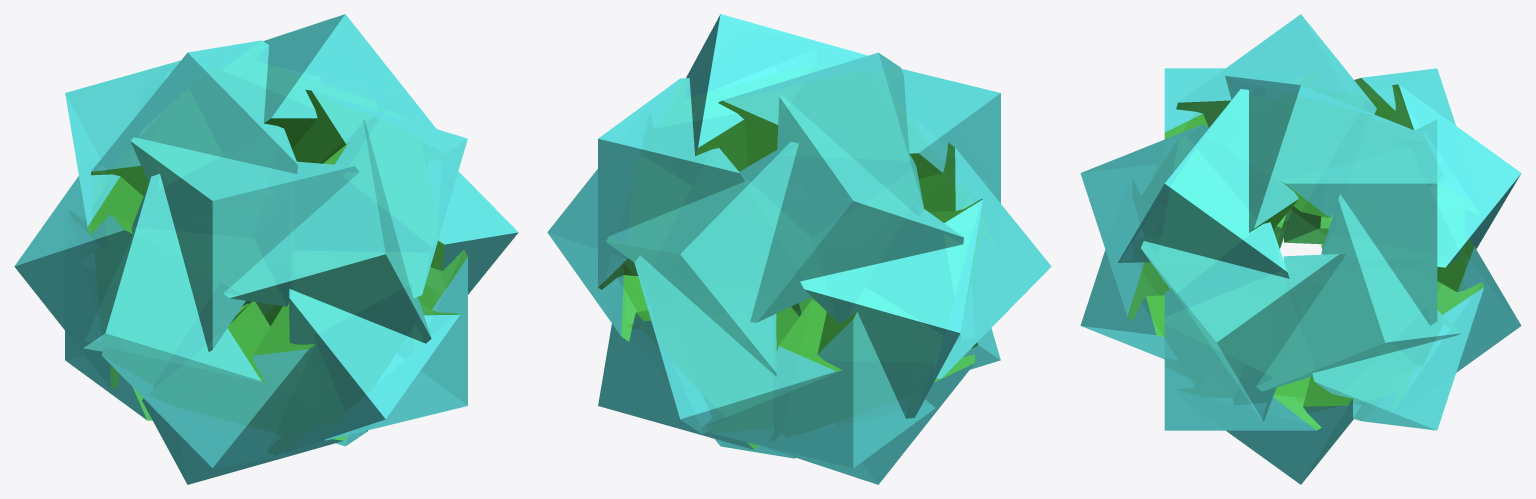
The model's file is RegularMap_F.obj.
3 views of the same model, side by side, from view 1: azimuth 30°, elevation 25°; view 2: azimuth 150°, elevation 25°; view 3: azimuth 270°, elevation 25° (orthographic). The views are drawn at different scales.
Bounding box in the file's own units: 18.94 × 18.94 × 18.94.
